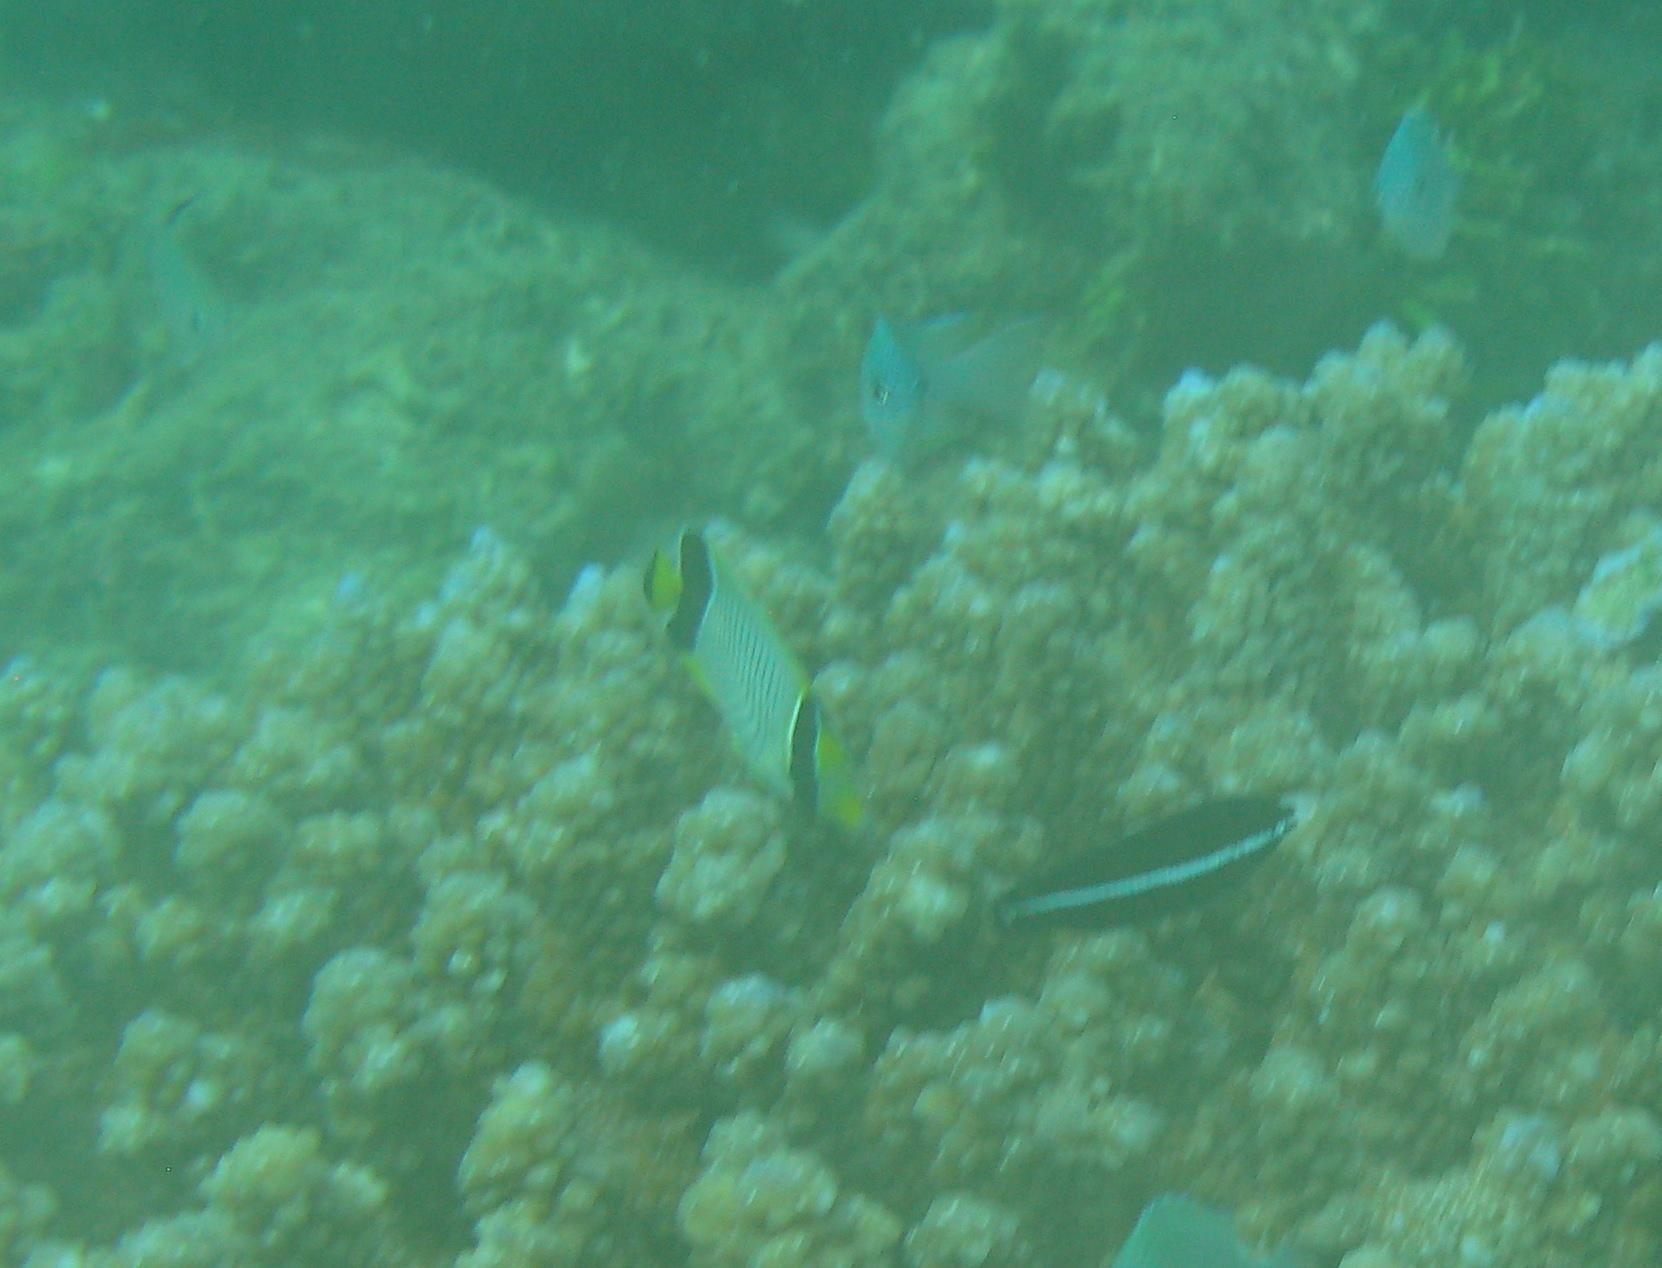Fish: (630, 510, 879, 863)
